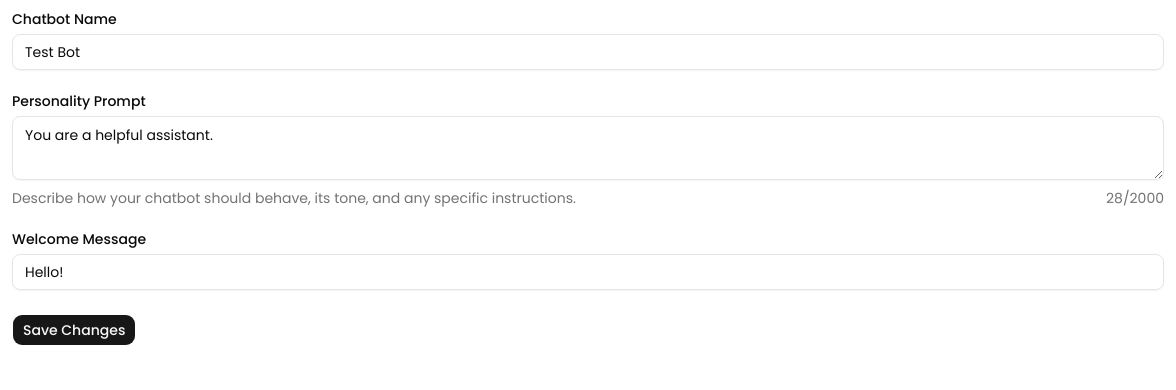
PersonalityForm › shows validation error when name is empty
The width and height of the screenshot is (1176, 390).
Clear the field showing "Test Bot" at (588, 52), box top-left (12, 34), bottom-right (1164, 70)
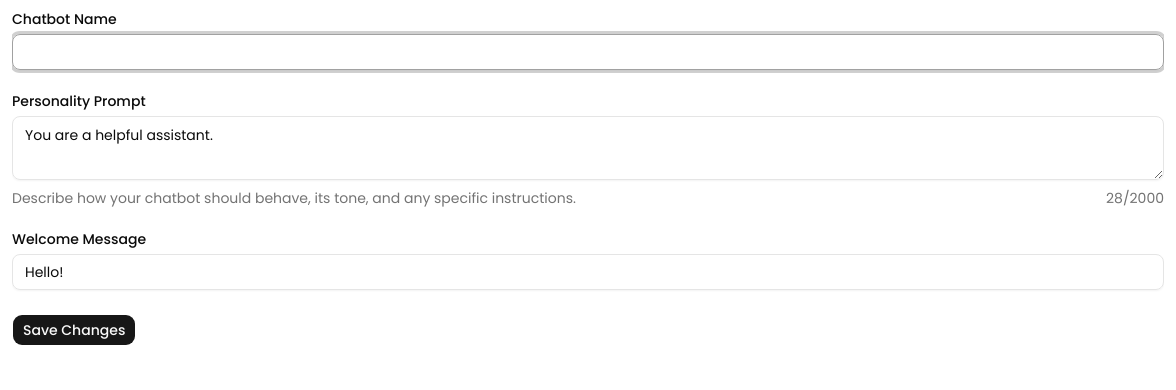
Click the button "Save Changes".
click(74, 330)  # box top-left (12, 314), bottom-right (136, 346)
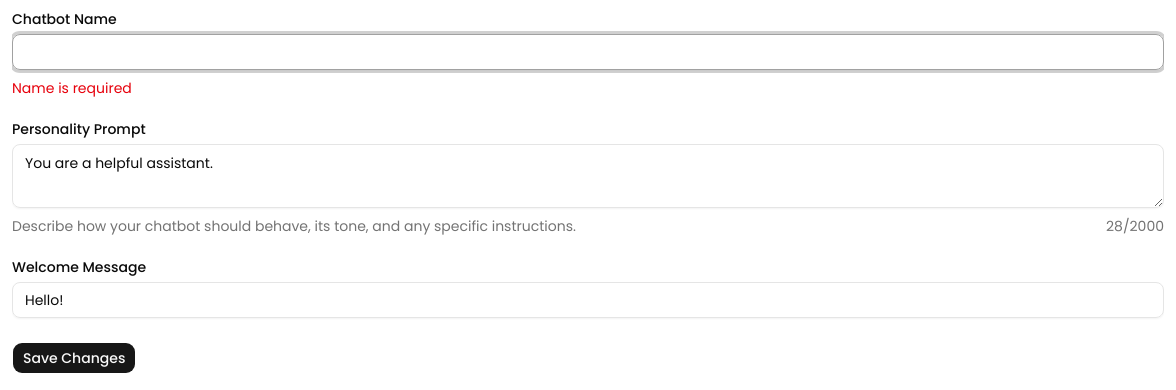
Result: the text "Name is required" is shown at top-left (12, 78), bottom-right (132, 98)
